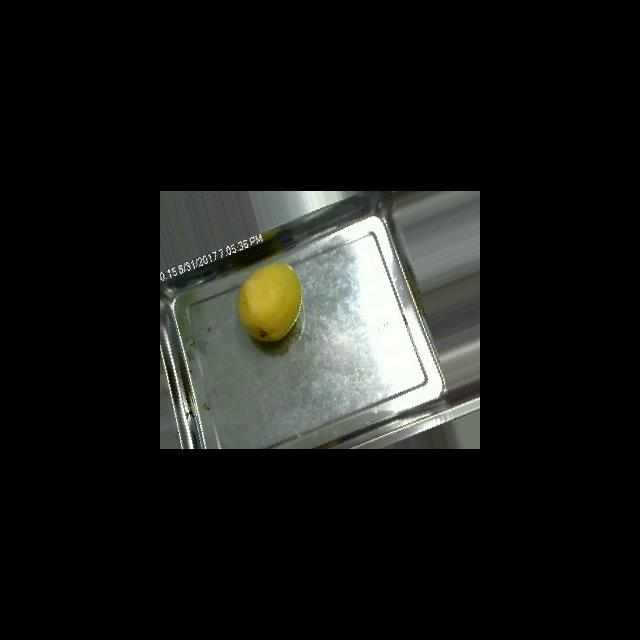Mango: (236, 261, 303, 343)
